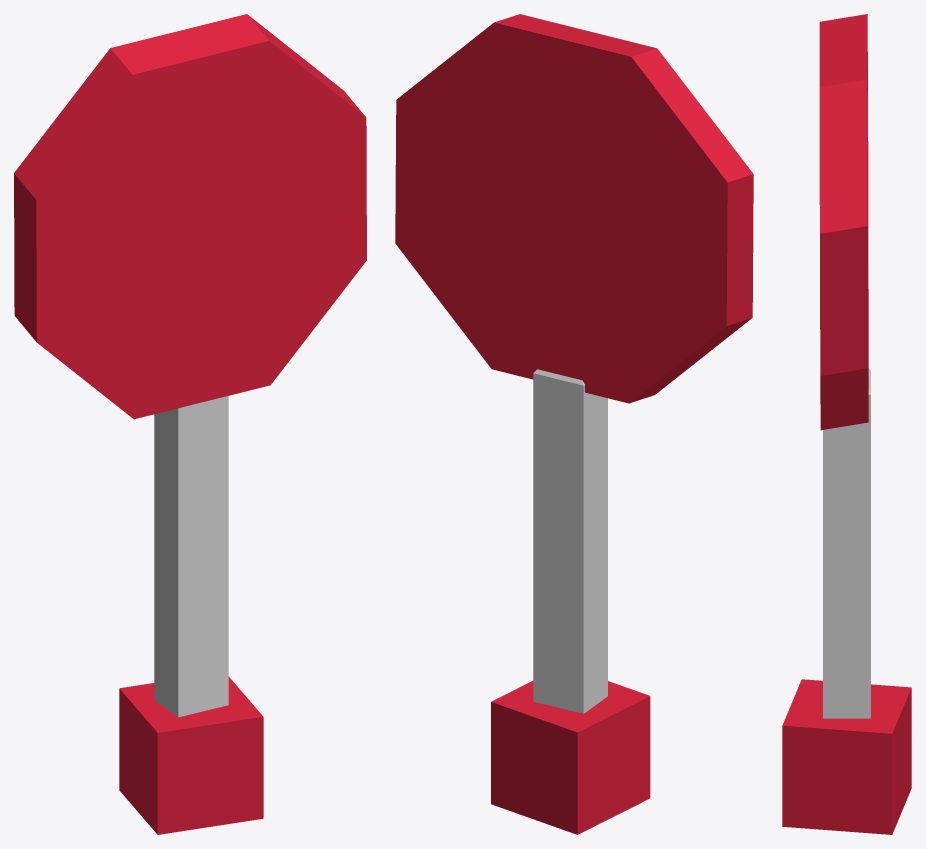
File: stop.fbx
3 renders of one model, left to right at view 1: azimuth 30°, elevation 25°; view 2: azimuth 150°, elevation 25°; view 3: azimuth 270°, elevation 25°, orthographic.
Visible parts, largest first — view 1: Cube, Cube.001; view 2: Cube, Cube.001; view 3: Cube, Cube.001.
Boxes of the visible parts, left/top/right/bottom form: Cube: left=14, top=14, right=366, bottom=834; Cube.001: left=154, top=396, right=228, bottom=717; Cube: left=395, top=14, right=753, bottom=834; Cube.001: left=533, top=369, right=607, bottom=713; Cube: left=782, top=14, right=911, bottom=834; Cube.001: left=823, top=368, right=870, bottom=718.
Size of the model in its own units: 682 by 1504 by 232.
